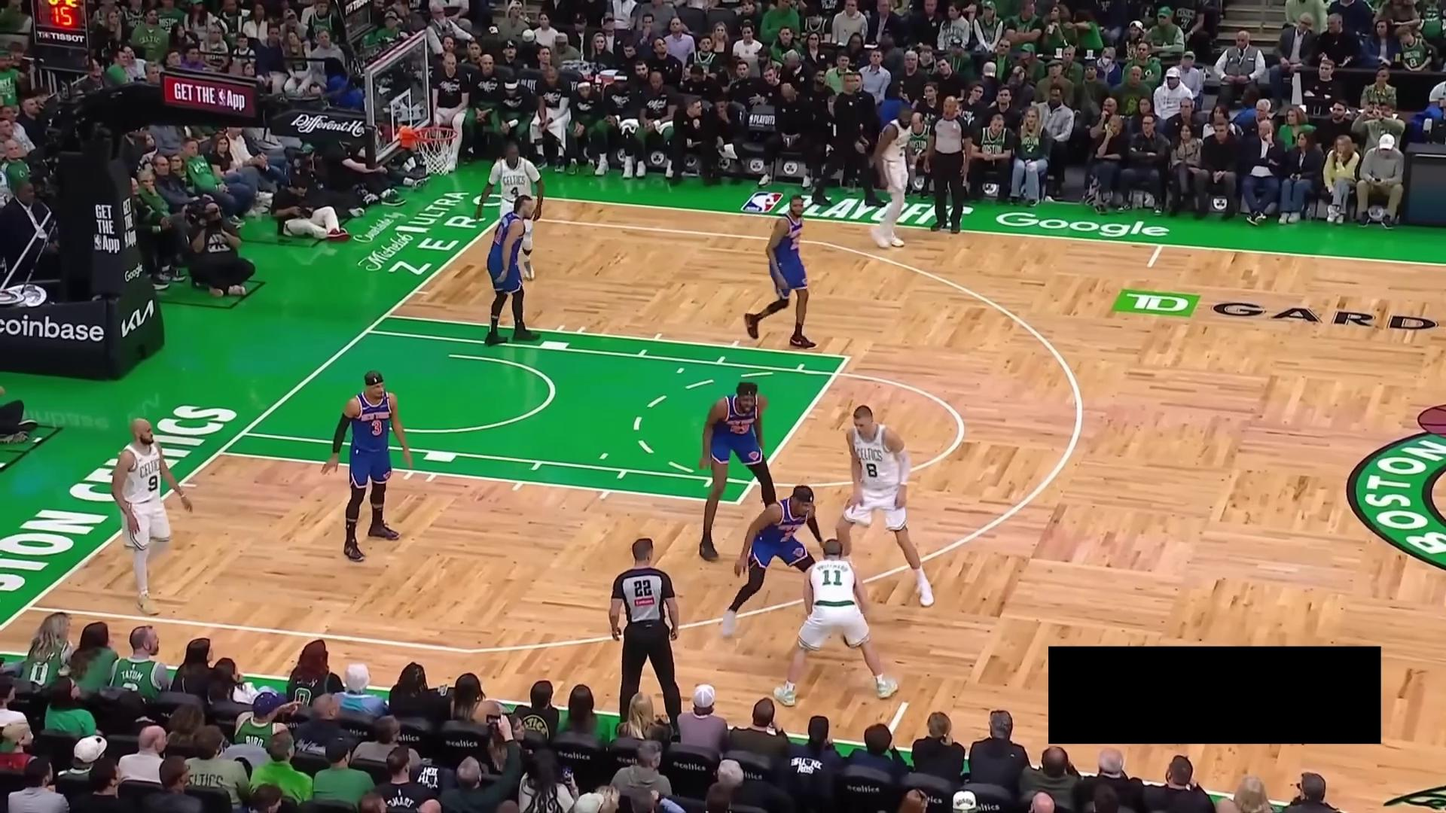ball: (842, 623, 866, 649)
number: (820, 566, 845, 587), (730, 420, 752, 437), (866, 461, 879, 479), (370, 418, 383, 435), (780, 530, 795, 544), (148, 474, 159, 492), (897, 143, 907, 159), (510, 183, 520, 198)
player: (830, 400, 935, 610), (320, 366, 418, 566), (719, 483, 825, 641), (691, 381, 784, 561), (110, 416, 194, 615), (745, 190, 817, 350), (474, 137, 547, 281), (480, 190, 542, 347), (868, 108, 917, 249)
player-in-possession: (770, 537, 901, 706)
referee: (605, 531, 695, 740), (922, 93, 977, 234)
rim: (411, 123, 459, 146)
